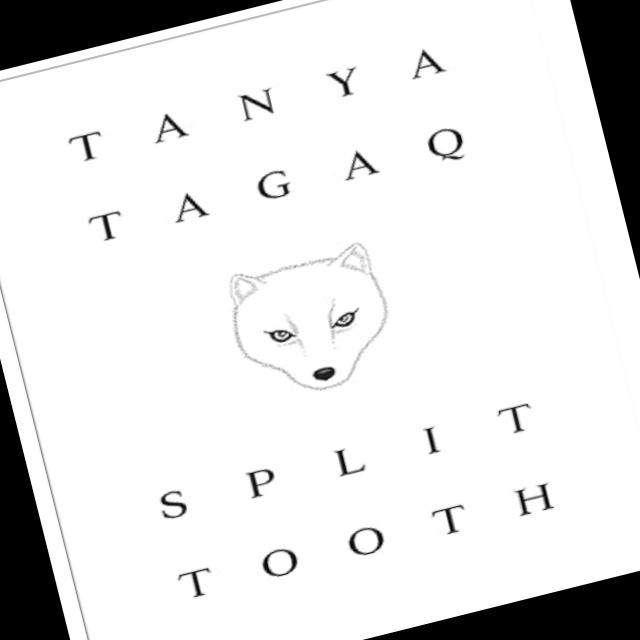titles-or-authors: (46, 19, 490, 268), (131, 382, 579, 617)
